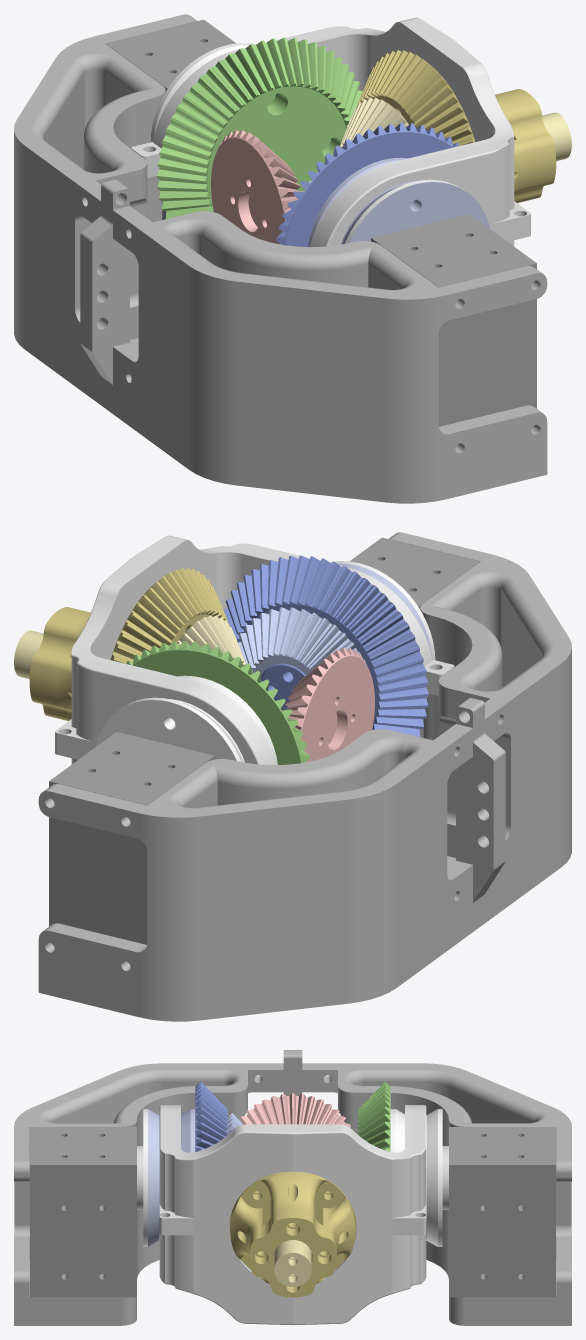
The picture shows the model from 3 angles, top to bottom: view 1: azimuth 30°, elevation 25°; view 2: azimuth 150°, elevation 25°; view 3: azimuth 270°, elevation 25°; orthographic projection. The views are drawn at different scales.
Visible parts, largest first — view 1: Base_007-1, SecondRollBevel_002.2-6, OutputYaw_004-1, XL430-1, SecondRollBevel_002-1, SecondRollBevel_002.2-5, HornAdapter_004-2, SecondRollBevel_002.2-7, XL430-3, FirstRollShaft_005-1, SecondRollBevel_002-4, HornAdapter_004-1 (+1 smaller); view 2: Base_007-1, OutputYaw_004-1, XL430-3, SecondRollBevel_002.2-5, SecondRollBevel_002-1, SecondRollBevel_002.2-6, HornAdapter_004-1, SecondRollBevel_002.2-7, SecondRollBevel_002-2, XL430-1, FirstRollShaft_005-1, SecondRollBevel_002-4 (+2 smaller); view 3: Base_007-1, OutputYaw_004-1, XL430-3, XL430-1, FirstRollShaft_005-1, HornAdapter_004-2, HornAdapter_004-1, SecondRollBevel_002-1, SecondRollBevel_002.2-6, SecondRollBevel_002.2-5, SecondRollShaft_006-1.
Part boxes in pixels (left/top/right/bottom): Base_007-1: left=14, top=14, right=547, bottom=503; SecondRollBevel_002.2-6: left=157, top=37, right=362, bottom=218; OutputYaw_004-1: left=131, top=17, right=530, bottom=247; XL430-1: left=371, top=214, right=536, bottom=426; SecondRollBevel_002-1: left=211, top=130, right=302, bottom=243; SecondRollBevel_002.2-5: left=276, top=123, right=459, bottom=246; HornAdapter_004-2: left=308, top=157, right=490, bottom=246; SecondRollBevel_002.2-7: left=356, top=50, right=475, bottom=145; XL430-3: left=105, top=19, right=236, bottom=219; FirstRollShaft_005-1: left=495, top=89, right=556, bottom=202; SecondRollBevel_002-4: left=340, top=97, right=408, bottom=147; HornAdapter_004-1: left=150, top=43, right=255, bottom=142; Base_007-1: left=38, top=532, right=571, bottom=1021; OutputYaw_004-1: left=55, top=535, right=454, bottom=765; XL430-3: left=49, top=732, right=214, bottom=944; SecondRollBevel_002.2-5: left=223, top=555, right=428, bottom=736; SecondRollBevel_002-1: left=283, top=647, right=374, bottom=761; SecondRollBevel_002.2-6: left=126, top=641, right=309, bottom=764; HornAdapter_004-1: left=95, top=675, right=277, bottom=764; SecondRollBevel_002.2-7: left=110, top=568, right=229, bottom=663; SecondRollBevel_002-2: left=238, top=607, right=361, bottom=676; XL430-1: left=350, top=537, right=480, bottom=737; FirstRollShaft_005-1: left=29, top=607, right=90, bottom=720; SecondRollBevel_002-4: left=177, top=615, right=245, bottom=665; Base_007-1: left=14, top=1050, right=571, bottom=1325; OutputYaw_004-1: left=159, top=1104, right=426, bottom=1325; XL430-3: left=442, top=1127, right=555, bottom=1297; XL430-1: left=30, top=1127, right=143, bottom=1297; FirstRollShaft_005-1: left=229, top=1171, right=356, bottom=1297; HornAdapter_004-2: left=143, top=1109, right=195, bottom=1246; HornAdapter_004-1: left=390, top=1109, right=442, bottom=1246; SecondRollBevel_002-1: left=240, top=1093, right=351, bottom=1127; SecondRollBevel_002.2-6: left=358, top=1081, right=390, bottom=1151; SecondRollBevel_002.2-5: left=195, top=1081, right=227, bottom=1151; SecondRollShaft_006-1: left=274, top=1240, right=311, bottom=1286.
Size of the model in its own units: 0.1374 by 0.079 by 0.1775.
